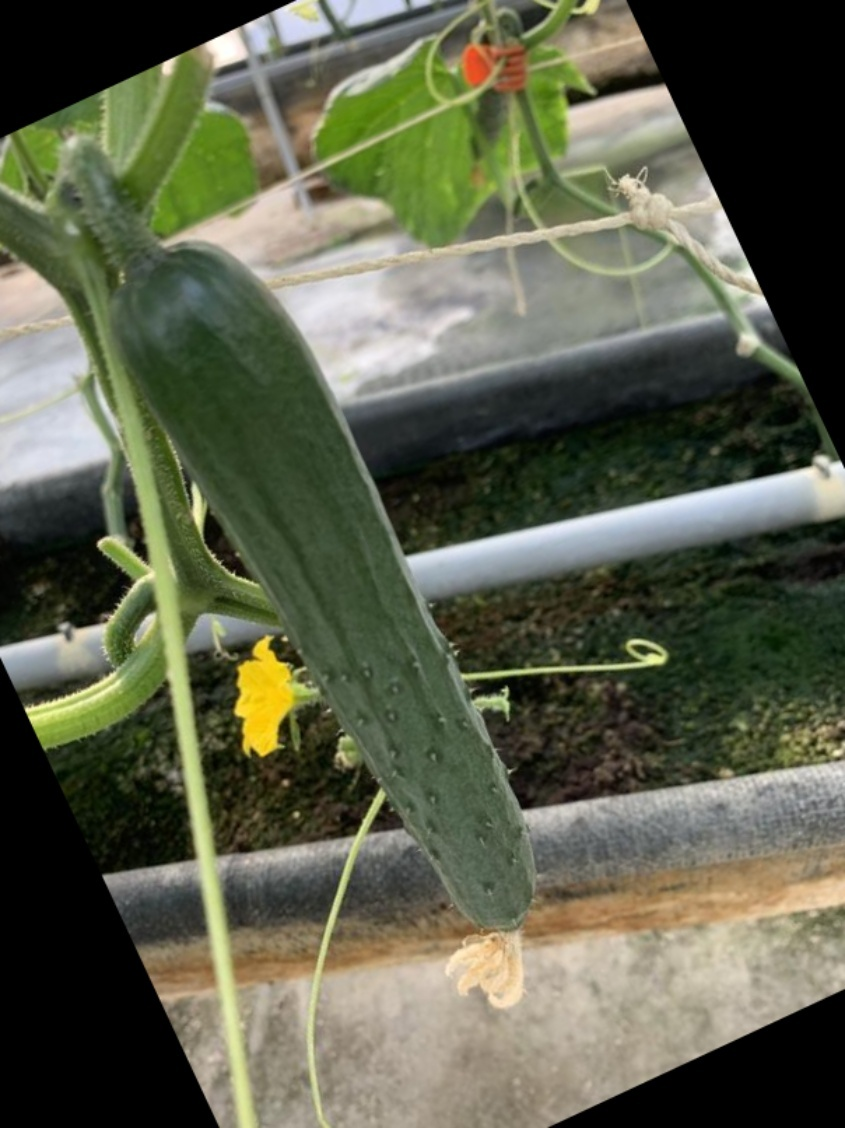mature: (125, 251, 572, 924)
